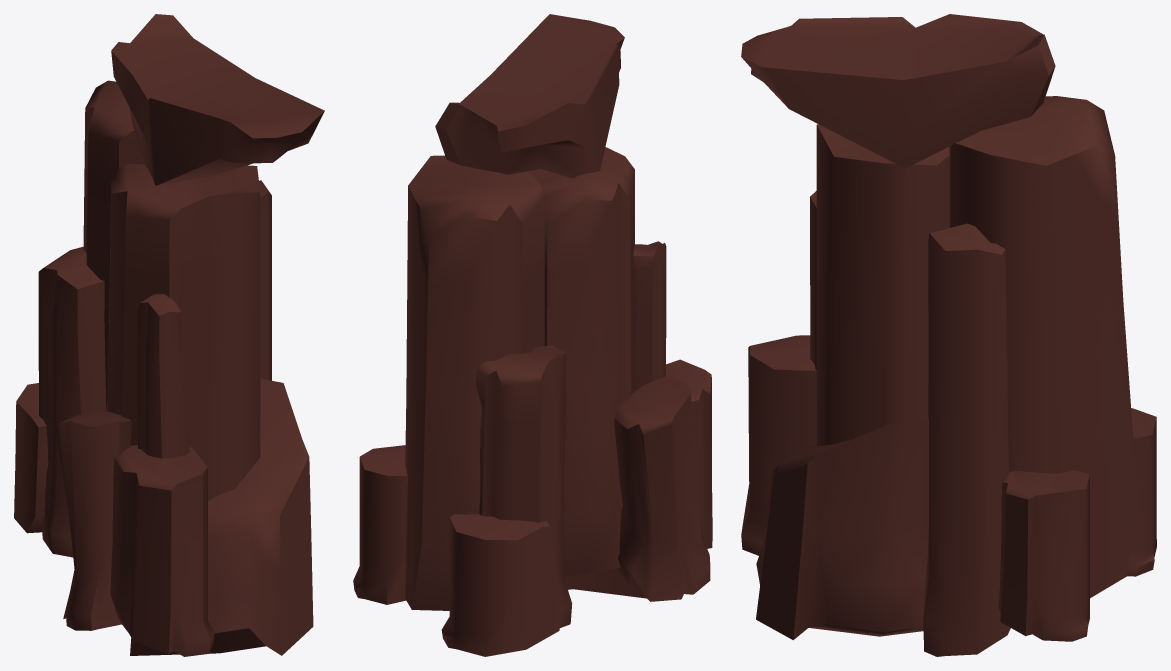
Rendered from SM_big_rock_complex_C.fbx.
The picture shows the model from 3 angles, left to right: view 1: azimuth 30°, elevation 25°; view 2: azimuth 150°, elevation 25°; view 3: azimuth 270°, elevation 25°; orthographic projection. The views are drawn at different scales.
Visible parts, largest first — view 1: polySurface12; view 2: polySurface12; view 3: polySurface12.
Boxes of the visible parts, <box> form: polySurface12: <box>14,14,324,656</box>; polySurface12: <box>353,14,712,656</box>; polySurface12: <box>741,14,1156,656</box>.
Bounding box in the file's own units: 1155 × 2266 × 1439.
